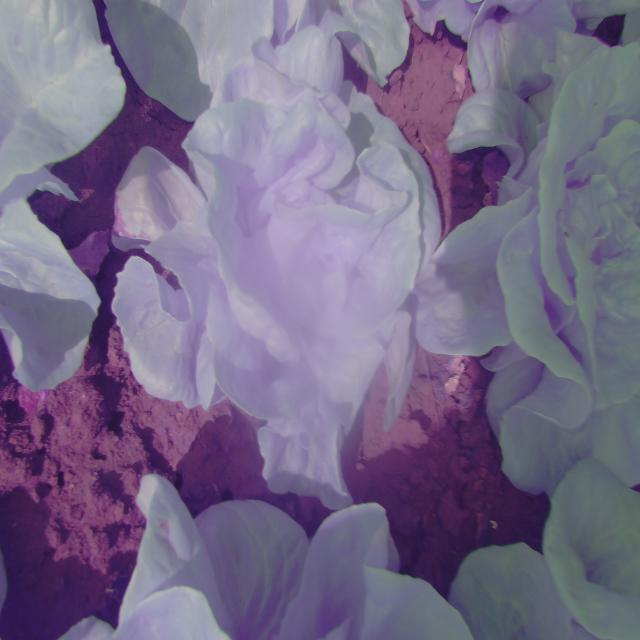vege: (108, 34, 445, 509)
